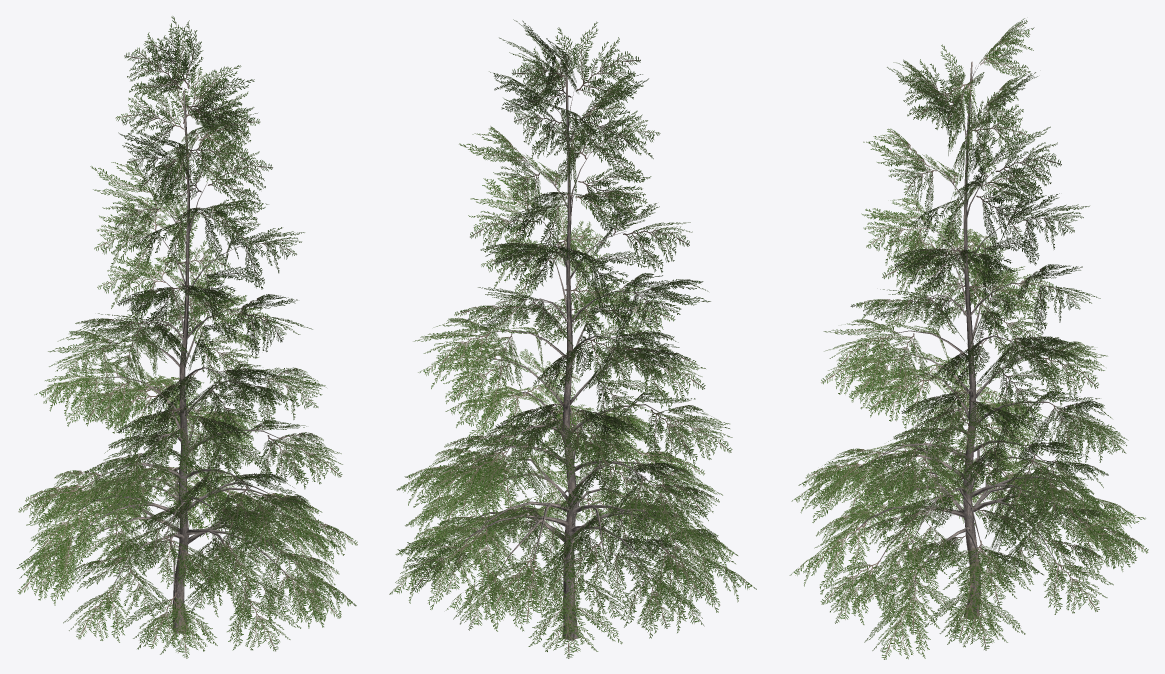
File: fir.glb
The picture shows the model from 3 angles, left to right: view 1: azimuth 30°, elevation 25°; view 2: azimuth 150°, elevation 25°; view 3: azimuth 270°, elevation 25°; orthographic projection. The views are drawn at different scales.
Parts seen in each view (by area): view 1: Tree_1, Tree_0; view 2: Tree_1, Tree_0; view 3: Tree_1, Tree_0.
Part boxes in pixels (<box>): Tree_1: <box>16,16,357,658</box>; Tree_0: <box>73,90,298,633</box>; Tree_1: <box>389,19,756,658</box>; Tree_0: <box>449,59,693,640</box>; Tree_1: <box>789,18,1148,659</box>; Tree_0: <box>847,61,1085,619</box>.
Bounding box in the file's own units: 2.39 × 4.39 × 2.37.
2 materials, 2 textured.
